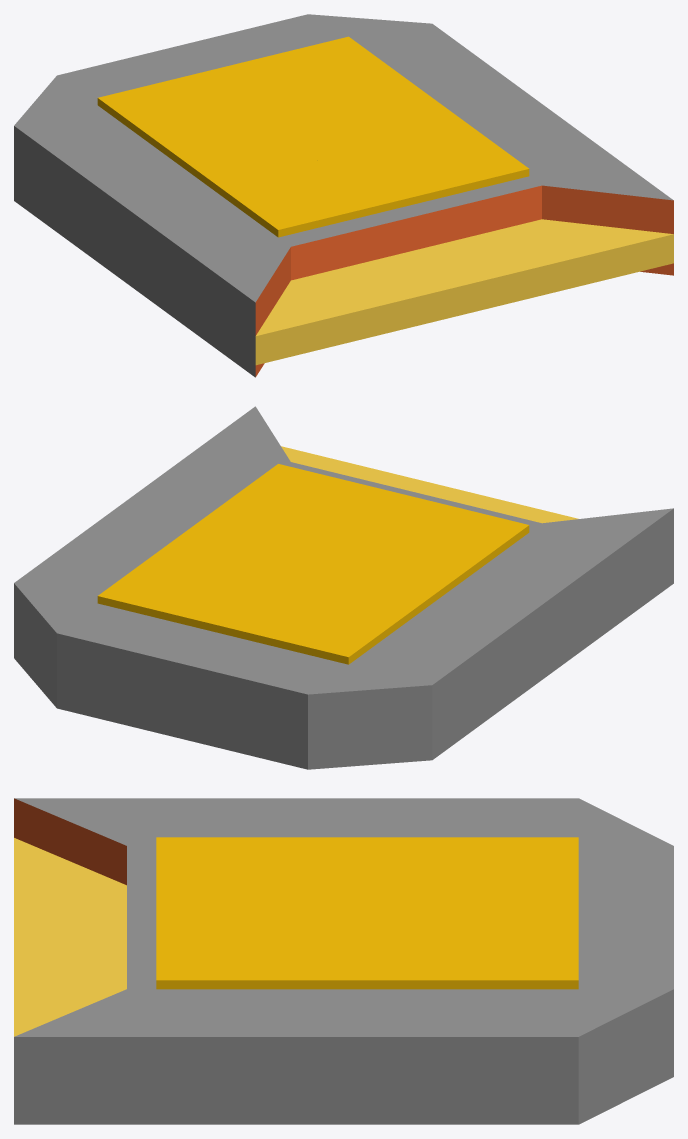
File: Upgrade_Food_01.fbx
The picture shows the model from 3 angles, top to bottom: view 1: azimuth 30°, elevation 25°; view 2: azimuth 150°, elevation 25°; view 3: azimuth 270°, elevation 25°; orthographic projection. The views are drawn at different scales.
Parts seen in each view (by area): view 1: Cube.001; view 2: Cube.001; view 3: Cube.001.
Part boxes in pixels (x1,y1,x2,y2): Cube.001: (14, 14, 673, 377); Cube.001: (14, 406, 673, 769); Cube.001: (14, 798, 673, 1124).
Size of the model in its own units: 86.17 by 17.74 by 101.
